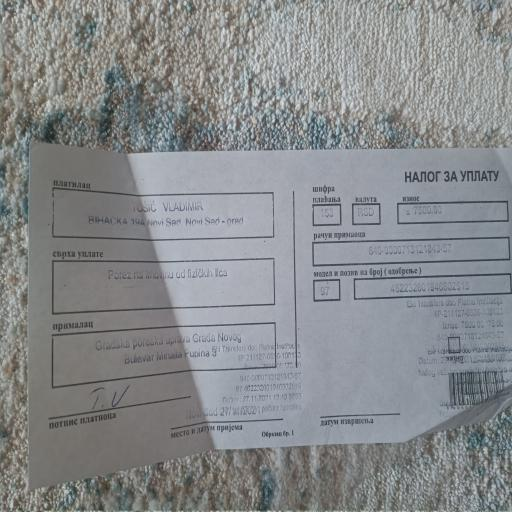svrha_uplate: (51, 243, 277, 312)
uplatnica: (305, 180, 510, 311)
